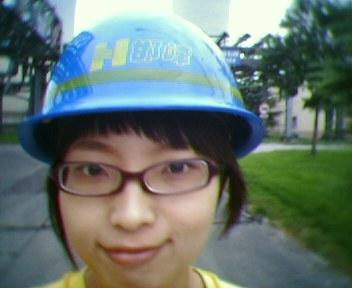helmet: (18, 8, 268, 167)
